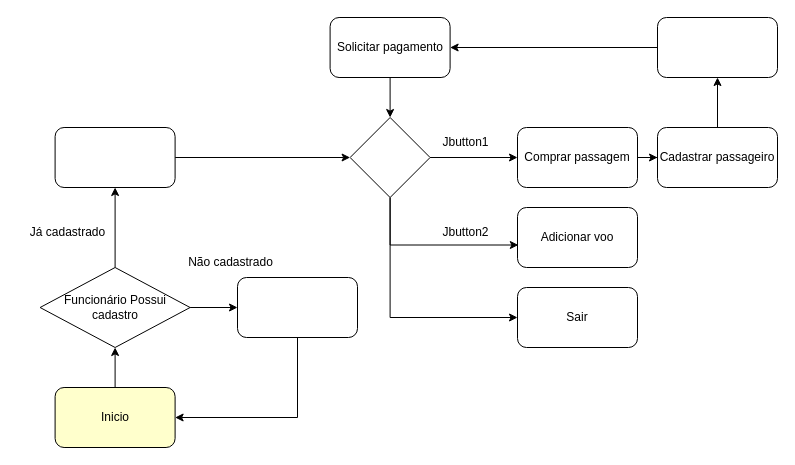
Some shapes in this 795 by 465 pixel diagram are drawn without their labels. The shapes that lost their labels are listed below. From the top down, each one's box as (x1, y1, x2, y2) in pixels, then its label:
(656, 16, 778, 78): Escolher viagem
(54, 126, 175, 188): Login
(349, 116, 430, 198): Menu
(236, 276, 358, 338): Cadastrar
